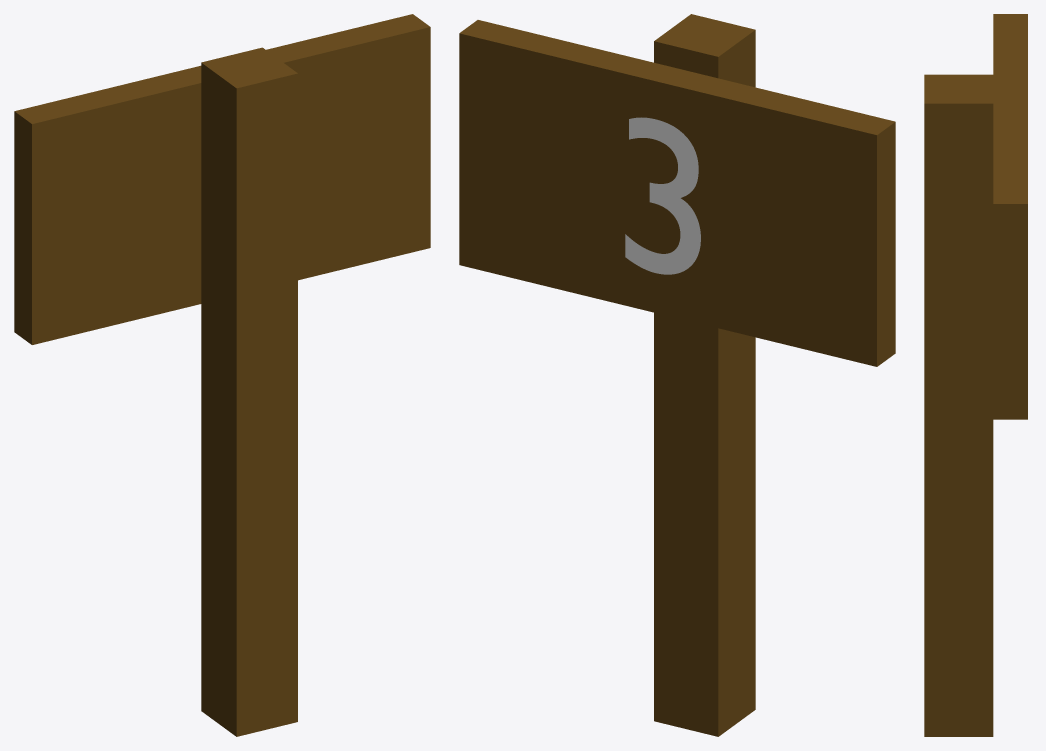
File: Planknomor3.fbx
3 views of the same model, side by side, from view 1: azimuth 30°, elevation 25°; view 2: azimuth 150°, elevation 25°; view 3: azimuth 270°, elevation 25° (orthographic). The views are drawn at different scales.
Visible parts, largest first — view 1: Cube.003; view 2: Cube.003, Text.002; view 3: Cube.003.
Part boxes in pixels (x1=…): Cube.003: x1=14, y1=14, x2=430, y2=736; Cube.003: x1=459, y1=14, x2=895, y2=736; Text.002: x1=625, y1=117, x2=700, y2=274; Cube.003: x1=924, y1=14, x2=1027, y2=736.
Bounding box in the file's own units: 199 × 309 × 47.66.
